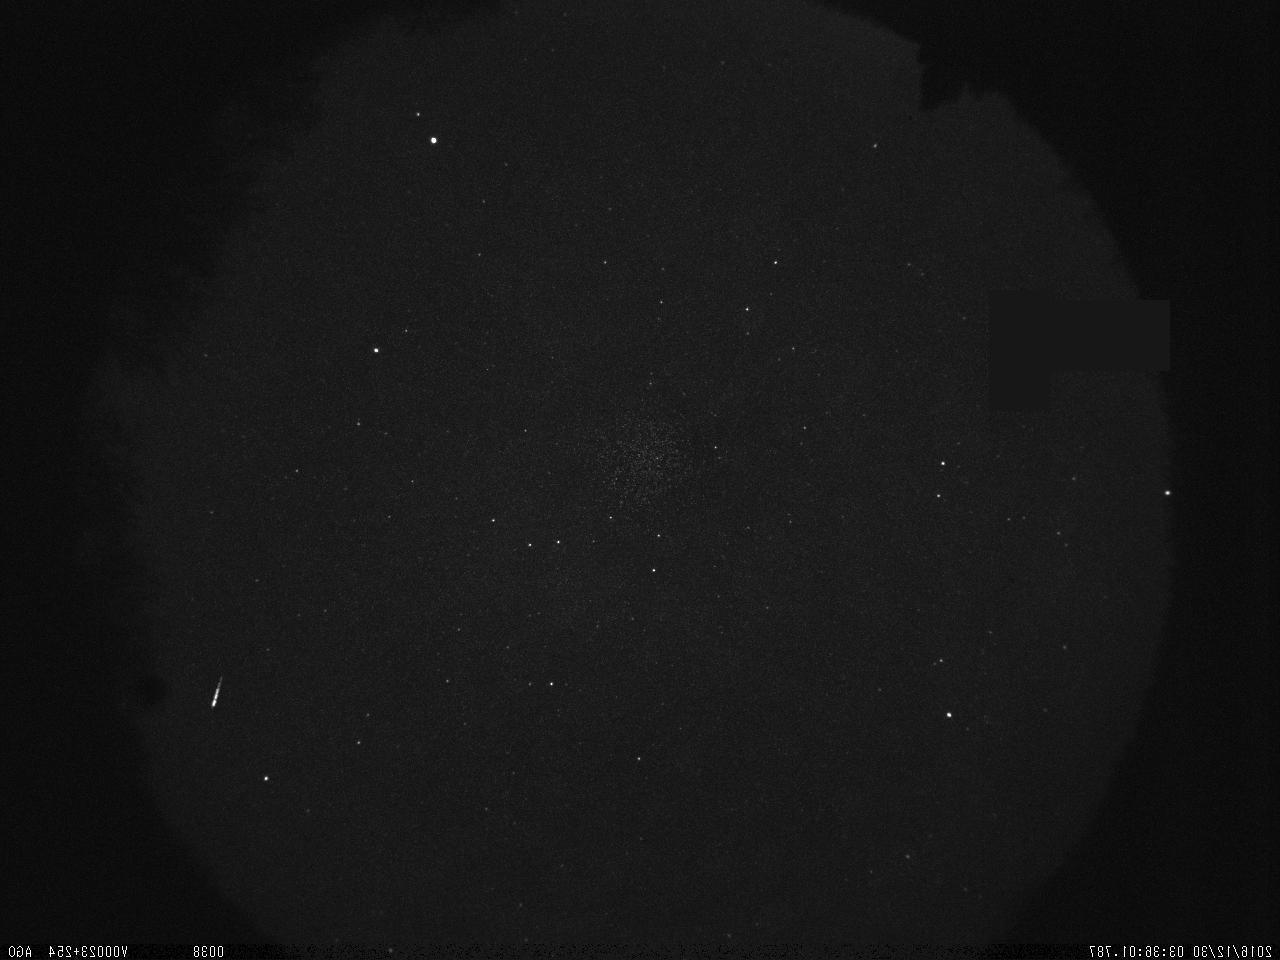meteor: (203, 674, 229, 721)
